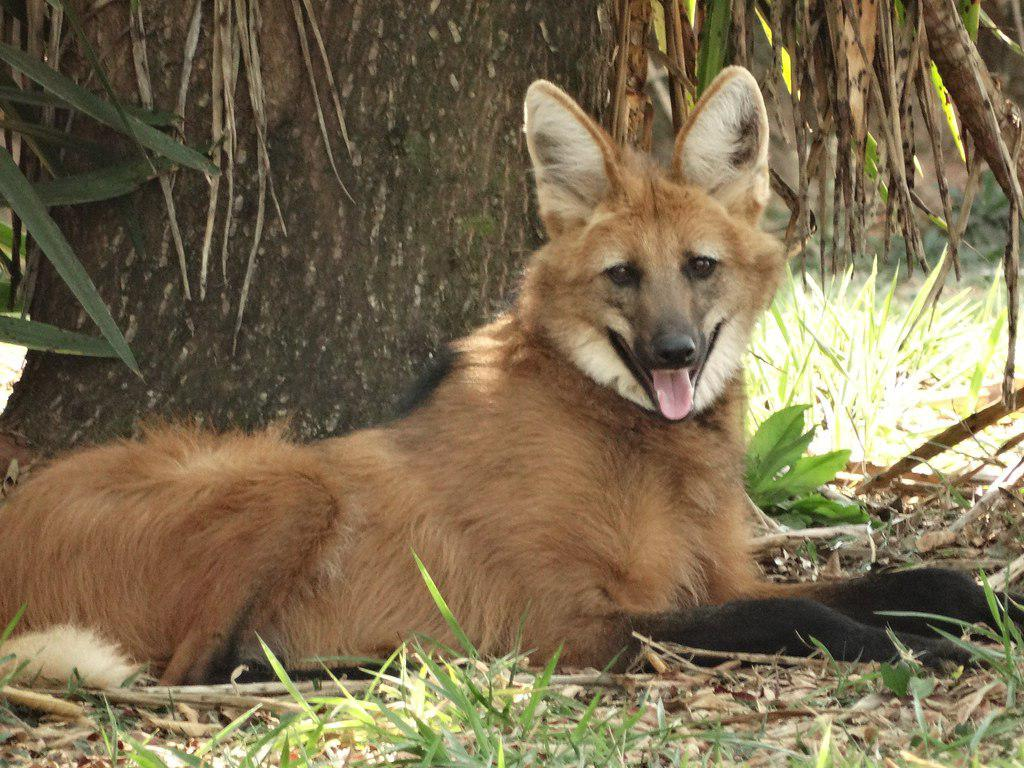LoboGuara: (31, 61, 1008, 677)
